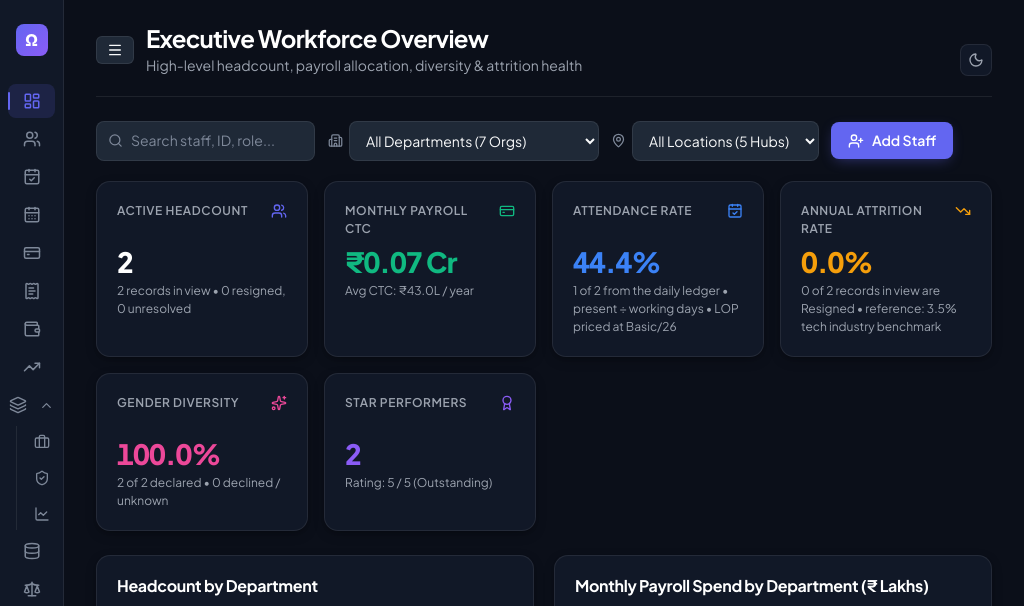
Test: Attendance integration — demo reset › Reset Demo State also restores the attendance ledger and the holiday calendar
This screenshot has width=1024, height=606.
Later steps or results of the test are not shown.
Click the button named "Admin & Settings". click: coordinates (32, 551)
box: [8, 534, 55, 568]
(page scrolled)
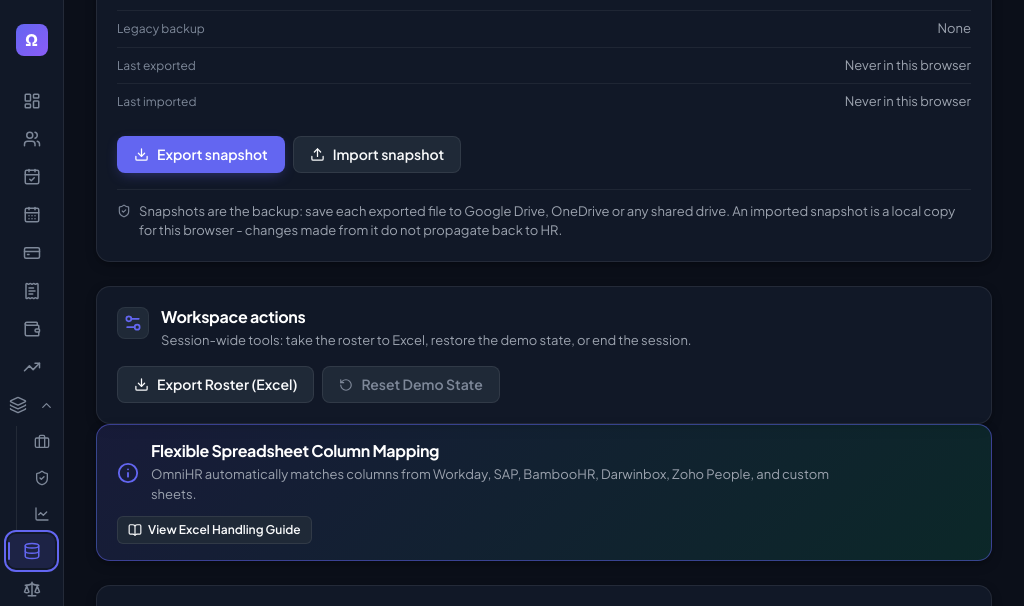
Click the button "Reset Demo State". click: coordinates (411, 385)
box: [322, 366, 500, 403]
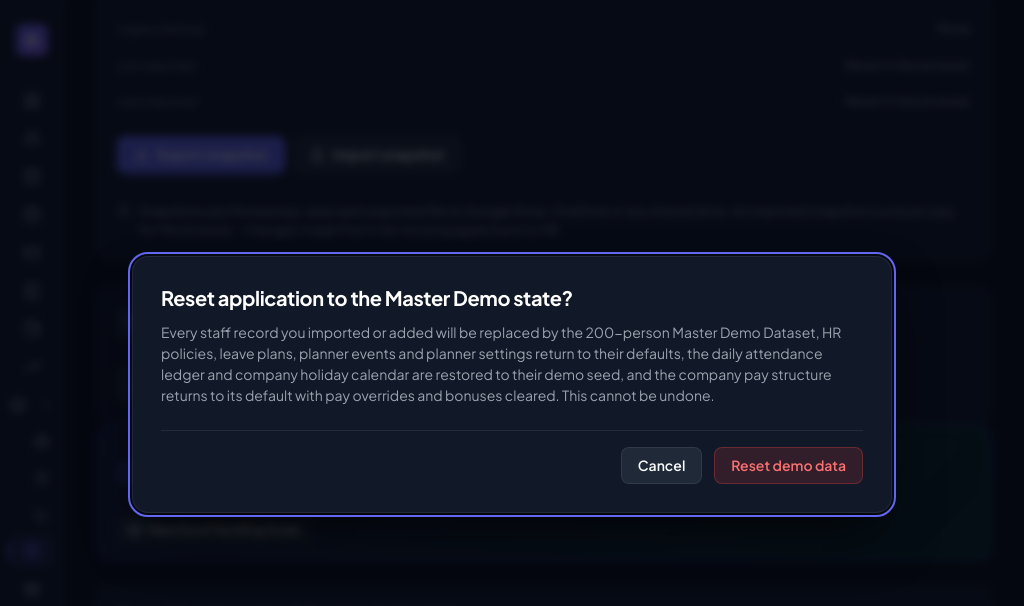
Expected: the dialog shows "daily attendance ledger", [161, 322, 841, 404]
Expected: the dialog shows "company holiday calendar", [161, 322, 841, 404]
